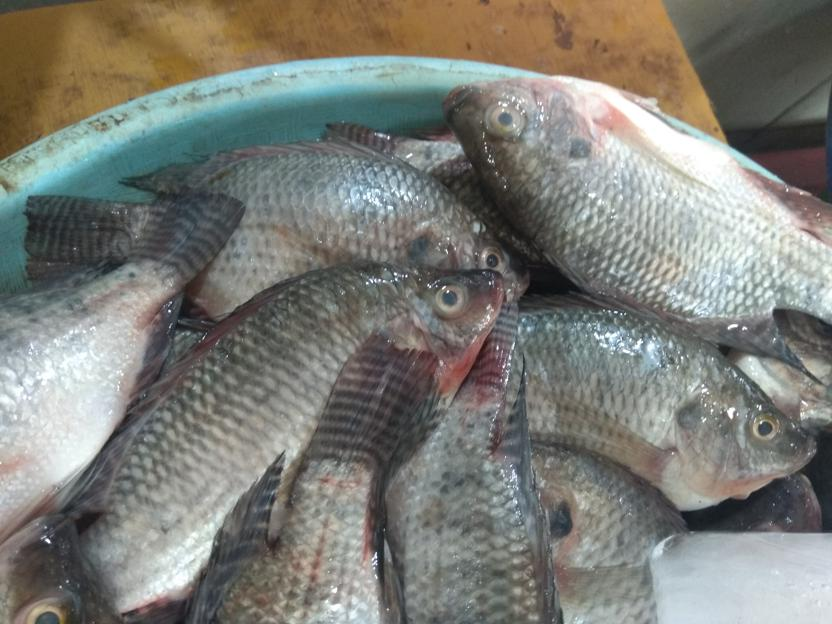Fish head: (439, 75, 594, 207), (365, 263, 505, 402), (675, 376, 819, 502), (3, 515, 121, 622), (410, 206, 533, 304)
Fish tail: (302, 330, 441, 471), (124, 188, 247, 293), (23, 193, 150, 281)
